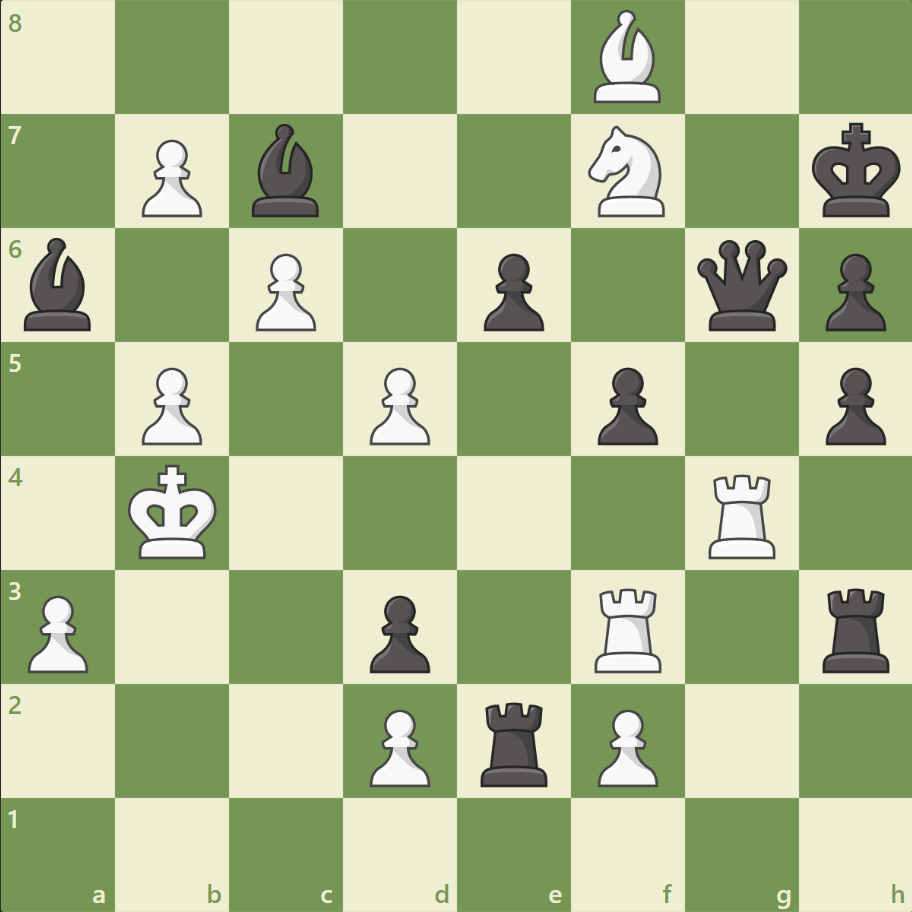B: (585, 6, 669, 109)
K: (124, 458, 224, 566)
N: (579, 121, 676, 223)
P: (133, 132, 208, 223), (247, 246, 322, 337), (133, 359, 208, 450), (20, 586, 95, 677), (361, 359, 435, 450), (361, 700, 435, 791), (588, 700, 662, 791)
R: (700, 466, 783, 563), (587, 579, 670, 676)
b: (17, 233, 101, 336), (244, 120, 328, 222)
k: (806, 117, 906, 225)
p: (474, 246, 549, 337), (815, 246, 889, 337), (588, 359, 662, 450), (815, 359, 889, 450), (361, 586, 435, 677)
q: (691, 236, 790, 335)
r: (814, 579, 897, 676), (473, 693, 556, 790)
